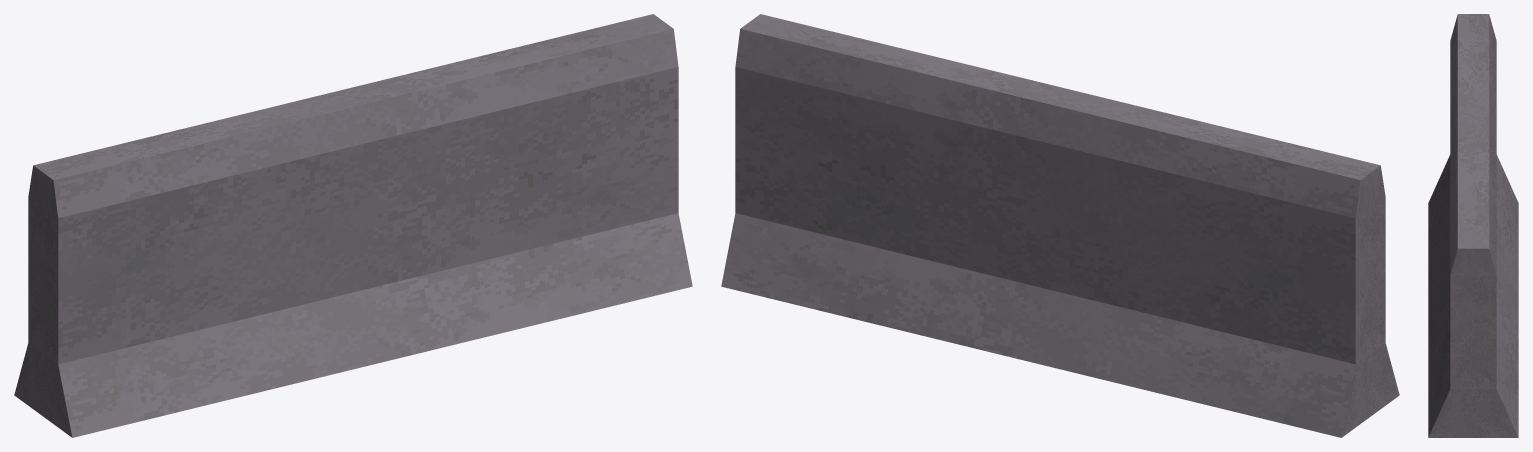
The model's file is CementBarrier.glb.
3 renders of one model, left to right at view 1: azimuth 30°, elevation 25°; view 2: azimuth 150°, elevation 25°; view 3: azimuth 270°, elevation 25°, orthographic. The views are drawn at different scales.
Parts seen in each view (by area): view 1: Cube; view 2: Cube; view 3: Cube.
Boxes of the visible parts, x1,y1,x2,y2 form: Cube: (14,14,692,437); Cube: (721,14,1399,437); Cube: (1428,14,1518,437).
Size of the model in its own units: 12 by 4.51 by 1.95.
Materials: 1 (1 with a texture image).
